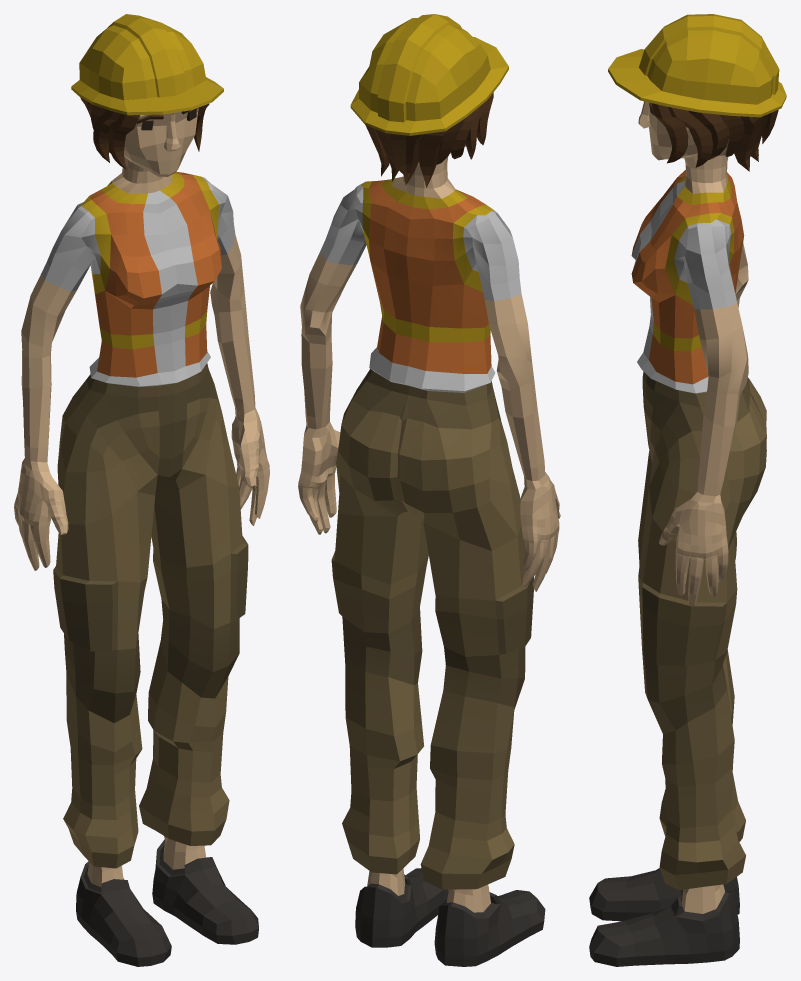
The model's file is worker-woman.glb.
3 views of the same model, side by side, from view 1: azimuth 30°, elevation 25°; view 2: azimuth 150°, elevation 25°; view 3: azimuth 270°, elevation 25° (orthographic). The views are drawn at different scales.
Parts seen in each view (by area): view 1: Worker_Legs, Worker_Body, Worker_Head, Worker_Feet; view 2: Worker_Legs, Worker_Body, Worker_Head, Worker_Feet; view 3: Worker_Legs, Worker_Body, Worker_Head, Worker_Feet.
Boxes of the visible parts, <box> form: Worker_Legs: <box>53,363,248,868</box>; Worker_Body: <box>14,171,269,570</box>; Worker_Head: <box>71,14,223,183</box>; Worker_Feet: <box>76,836,258,966</box>; Worker_Legs: <box>331,368,533,889</box>; Worker_Body: <box>298,176,560,591</box>; Worker_Head: <box>350,14,508,188</box>; Worker_Feet: <box>355,868,545,966</box>; Worker_Legs: <box>638,371,766,890</box>; Worker_Body: <box>631,169,748,606</box>; Worker_Head: <box>608,14,786,183</box>; Worker_Feet: <box>589,868,739,966</box>.
Size of the model in its own units: 0.5208 by 1.85 by 0.3617.
